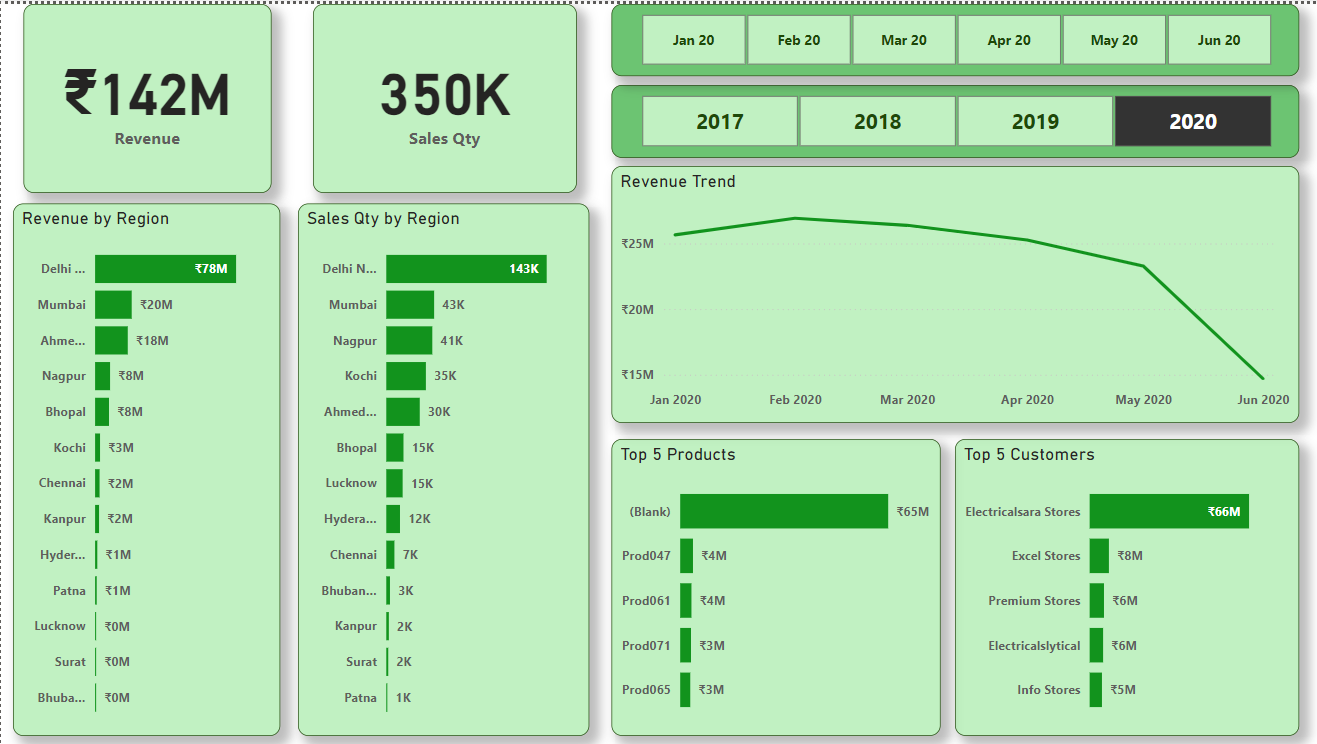

The page's visual inventory and layout, read from the dashboard file:
{"tool":"powerbi","page":{"name":"Key Insights","canvas":[1280,720],"ordinal":0},"visuals":[{"type":"card","fields":{"Values":["BaseMeasures.Revenue"]},"box":[22.2,0,240.7,183.1],"z":0},{"type":"card","fields":{"Values":["BaseMeasures.Sales Qty"]},"box":[302.8,0,256.2,183.4],"z":1000},{"type":"barChart","title":"Revenue by Region","fields":{"Y":["BaseMeasures.Revenue"],"Category":["sales markets.markets_name"]},"box":[11.6,193.6,259.1,516.7],"z":2000},{"type":"barChart","title":"Sales Qty by Region","fields":{"Y":["BaseMeasures.Sales Qty"],"Category":["sales markets.markets_name"]},"box":[288.2,193.6,282.4,516.7],"z":3000},{"type":"slicer","fields":{"Values":["sales date.year"]},"box":[592.2,78.3,667.6,70.9],"z":4000},{"type":"slicer","fields":{"Values":["sales date.cy_date"]},"box":[592.8,0,667.4,70],"z":5000},{"type":"barChart","title":"Top 5 Customers","fields":{"Y":["BaseMeasures.Revenue"],"Category":["sales customers.custmer_name"]},"box":[926,422.4,333.8,288],"z":6000},{"type":"barChart","title":"Top 5 Products","fields":{"Y":["BaseMeasures.Revenue"],"Category":["sales products.product_code"]},"box":[592.2,422.4,319,288],"z":7000},{"type":"lineChart","title":"Revenue Trend","fields":{"Y":["BaseMeasures.Revenue"],"Category":["sales date.cy_date"]},"box":[592.2,156.6,667.6,249.6],"z":8000}]}

Visuals, with their boxes in screenshot pixels (x1, y1, x2, y2), scaled from the page's 1280x720 canvas onto the 1317x744 screenshot:
card - BaseMeasures.Revenue: {"left": 23, "top": 0, "right": 270, "bottom": 189}
card - BaseMeasures.Sales Qty: {"left": 312, "top": 0, "right": 575, "bottom": 190}
"Revenue by Region" barChart: {"left": 12, "top": 200, "right": 279, "bottom": 734}
"Sales Qty by Region" barChart: {"left": 297, "top": 200, "right": 587, "bottom": 734}
slicer - sales date.year: {"left": 609, "top": 81, "right": 1296, "bottom": 154}
slicer - sales date.cy_date: {"left": 610, "top": 0, "right": 1297, "bottom": 72}
"Top 5 Customers" barChart: {"left": 953, "top": 436, "right": 1296, "bottom": 734}
"Top 5 Products" barChart: {"left": 609, "top": 436, "right": 938, "bottom": 734}
"Revenue Trend" lineChart: {"left": 609, "top": 162, "right": 1296, "bottom": 420}
